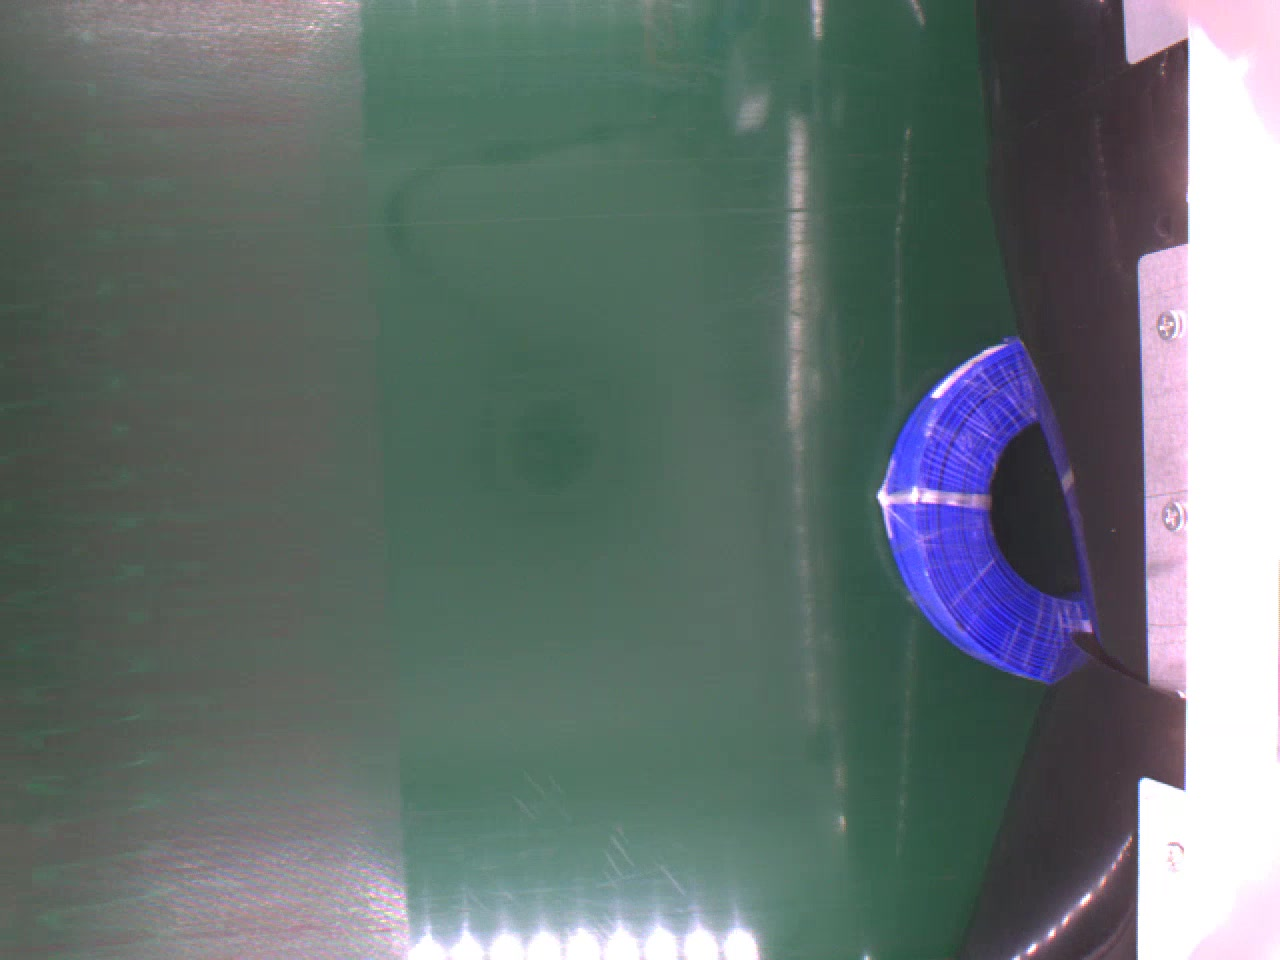blue: (880, 338, 1089, 681)
